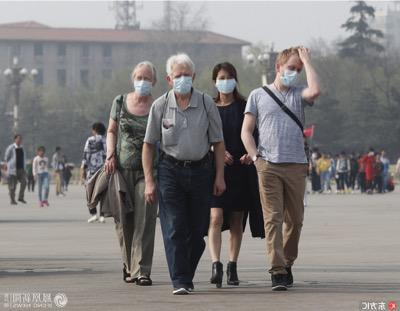with_mask: (280, 64, 303, 89), (171, 70, 193, 96), (133, 73, 153, 96), (215, 75, 237, 95)
without_mask: (15, 135, 21, 144), (38, 148, 44, 156)
